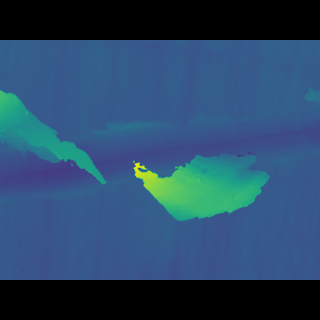Loch: (0, 106, 320, 210), (0, 107, 114, 185), (134, 151, 276, 211)
